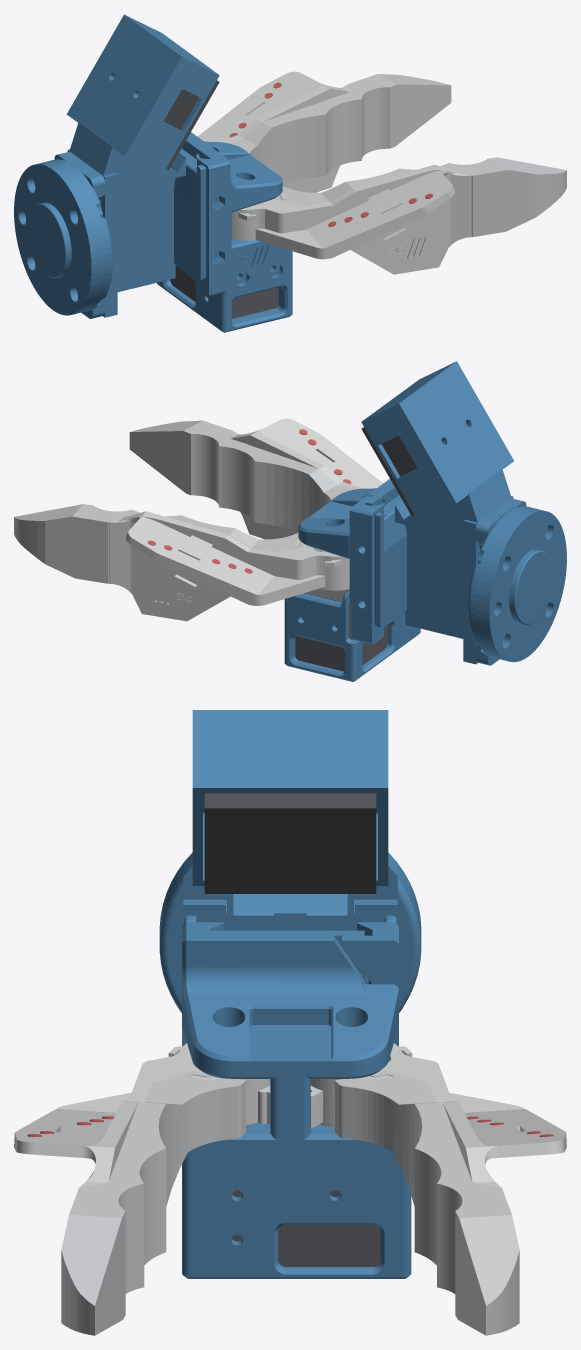
File: pg_chopstick_iso50_d405.glb
3 renders of one model, top to bottom at view 1: azimuth 30°, elevation 25°; view 2: azimuth 150°, elevation 25°; view 3: azimuth 270°, elevation 25°, orthographic. The views are drawn at different scales.
Visible parts, largest first — view 1: d405_frame, jaw_right, iso_flange_plate, tip_tpu_left, chopstick_base_sa, tip_tpu_right, jaw_left_sa, servo_envelope, d405_envelope; view 2: d405_frame, jaw_left_sa, iso_flange_plate, tip_tpu_right, chopstick_base_sa, tip_tpu_left, jaw_right, chopstick_clip_sa, servo_envelope, d405_envelope; view 3: chopstick_base_sa, d405_frame, tip_tpu_right, tip_tpu_left, d405_envelope, jaw_left_sa, jaw_right, iso_flange_plate, servo_envelope, chopstick_clip_sa.
Boxes of the visible parts, x1,y1,x2,y2 form: d405_frame: [66, 14, 219, 317]; jaw_right: [231, 164, 471, 274]; iso_flange_plate: [14, 151, 112, 318]; tip_tpu_left: [229, 74, 451, 184]; chopstick_base_sa: [157, 132, 292, 332]; tip_tpu_right: [277, 157, 566, 237]; jaw_left_sa: [197, 71, 350, 192]; servo_envelope: [170, 266, 278, 318]; d405_envelope: [163, 80, 219, 169]; d405_frame: [361, 361, 513, 664]; jaw_left_sa: [109, 511, 349, 621]; iso_flange_plate: [468, 498, 566, 665]; tip_tpu_right: [129, 420, 351, 531]; chopstick_base_sa: [284, 479, 420, 681]; tip_tpu_left: [14, 504, 303, 583]; jaw_right: [230, 418, 382, 539]; chopstick_clip_sa: [349, 496, 383, 644]; servo_envelope: [295, 588, 387, 671]; d405_envelope: [361, 427, 417, 516]; chopstick_base_sa: [182, 922, 411, 1278]; d405_frame: [184, 710, 396, 984]; tip_tpu_right: [61, 1071, 245, 1335]; tip_tpu_left: [335, 1071, 519, 1335]; d405_envelope: [204, 793, 376, 893]; jaw_left_sa: [310, 1043, 566, 1186]; jaw_right: [14, 1043, 270, 1186]; iso_flange_plate: [159, 852, 421, 1012]; servo_envelope: [232, 1190, 380, 1266]; chopstick_clip_sa: [342, 922, 398, 1045].
Size of the model in its own units: 0.2206 by 0.1296 by 0.1352.
